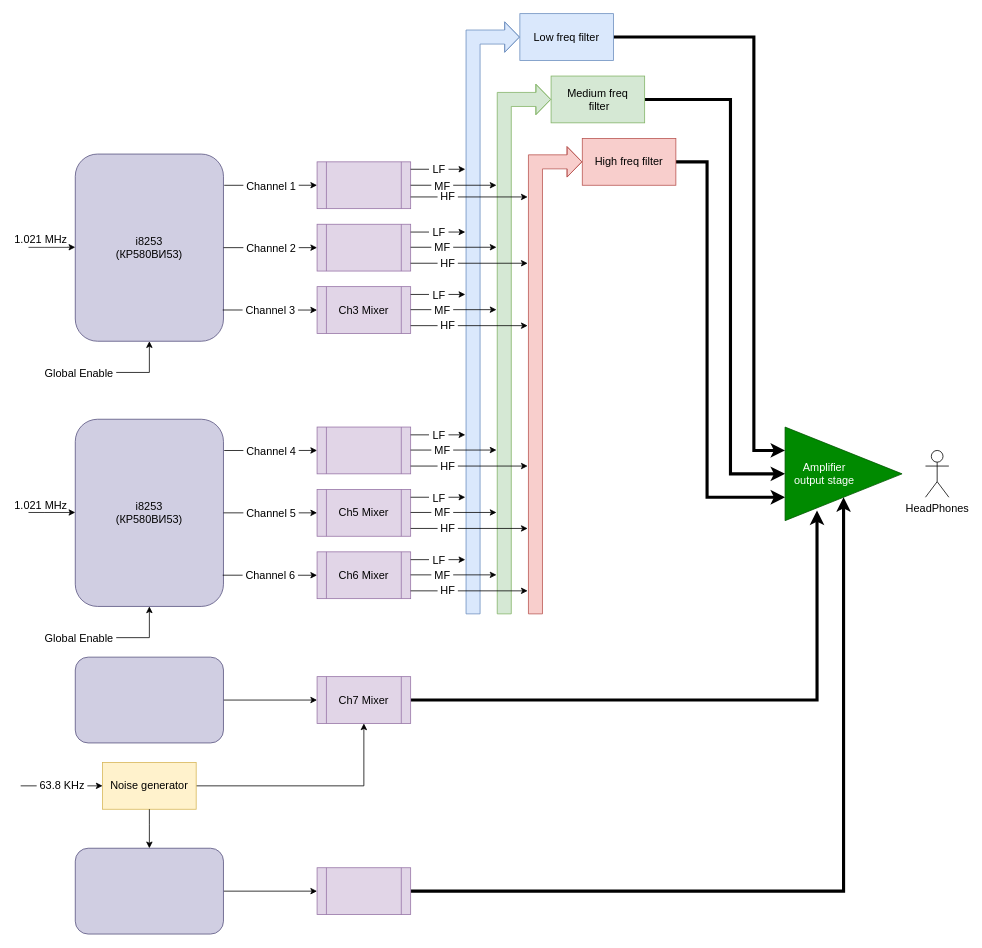
Image size: 982x948. Some labels were removed from this diagram. Here are the shapes that lost their labels. From the top down, the box of each, then its label:
(316, 161, 411, 209): Ch1 Mixer
(316, 223, 411, 271): Ch2 Mixer
(316, 426, 411, 474): Ch4 Mixer
(74, 656, 223, 743): Drum channel 7
(74, 847, 223, 934): Drum/noise channel 8
(316, 867, 411, 915): Ch8 Mixer
